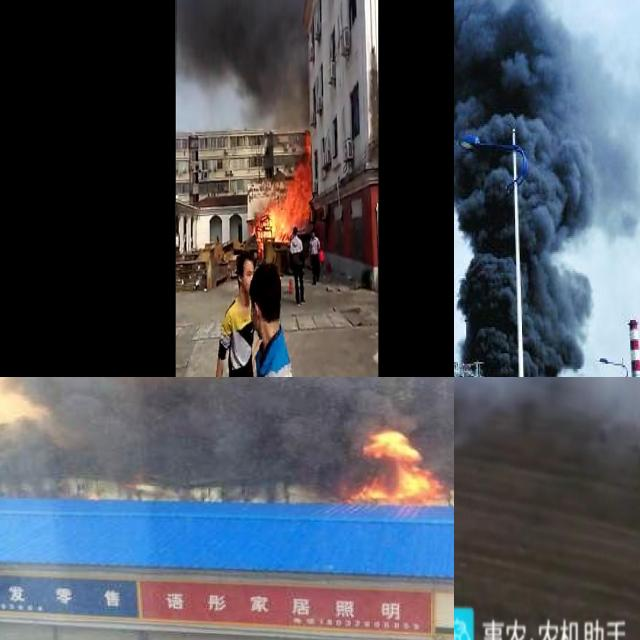fire: (342, 428, 444, 504), (256, 140, 313, 247)
smoke: (454, 0, 640, 377), (0, 377, 454, 506), (178, 0, 310, 132)
